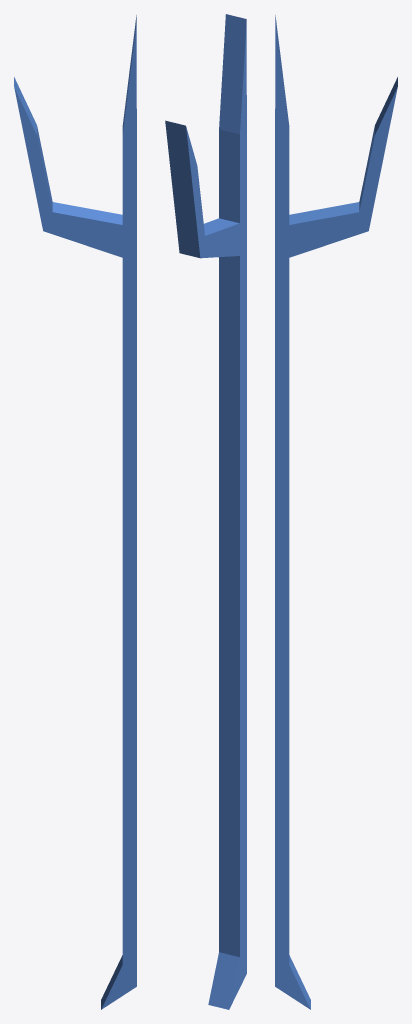
File: TridentWMat.glb
The picture shows the model from 3 angles, left to right: view 1: azimuth 90°, elevation 25°; view 2: azimuth 150°, elevation 25°; view 3: azimuth 270°, elevation 25°; orthographic projection.
Visible parts, largest first — view 1: Trident; view 2: Trident; view 3: Trident.
Boxes of the visible parts, bbox=[...] form: Trident: bbox=[14, 15, 136, 1009]; Trident: bbox=[165, 14, 246, 1009]; Trident: bbox=[275, 15, 397, 1009].
Bounding box in the file's own units: 0.5859 × 26.25 × 2.96.
